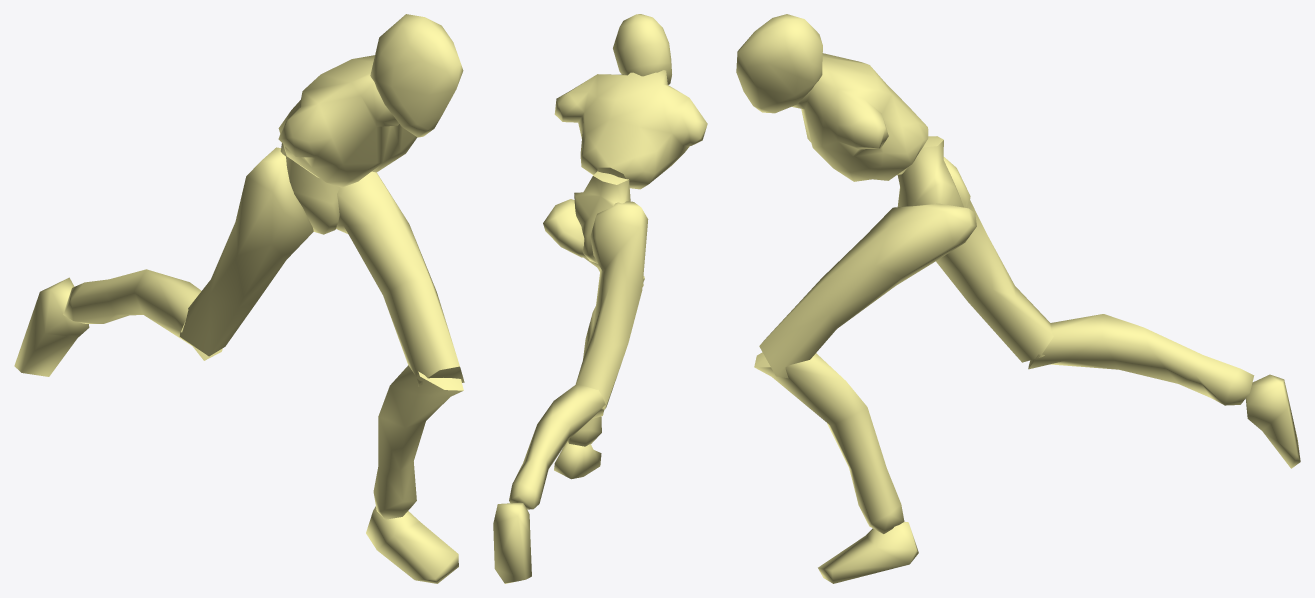
File: filth18.obj
3 renders of one model, left to right at view 1: azimuth 30°, elevation 25°; view 2: azimuth 150°, elevation 25°; view 3: azimuth 270°, elevation 25°, orthographic. The views are drawn at different scales.
Visible parts, largest first — view 1: Melee_Husk; view 2: Melee_Husk; view 3: Melee_Husk.
Boxes of the visible parts, box(x1,y1,x2,y2) form: Melee_Husk: box(14, 14, 464, 583); Melee_Husk: box(493, 14, 707, 583); Melee_Husk: box(736, 14, 1300, 583).
Bounding box in the file's own units: 22.09 × 64.75 × 61.02.
